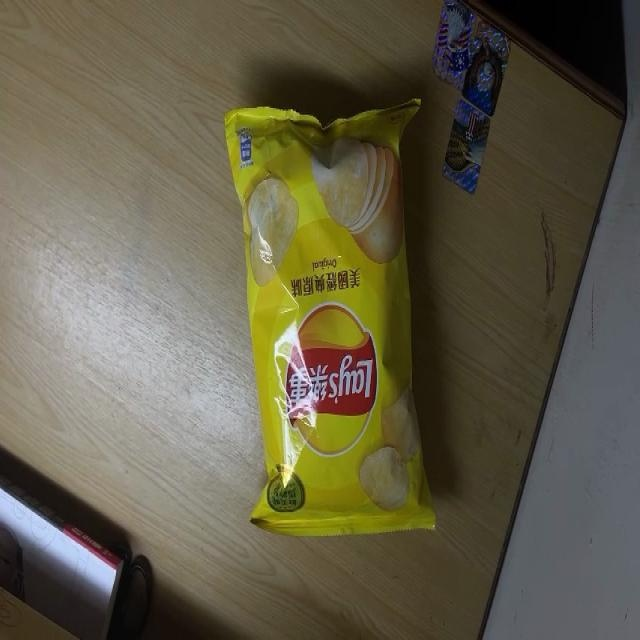Lay-s-original: (223, 94, 439, 535)
